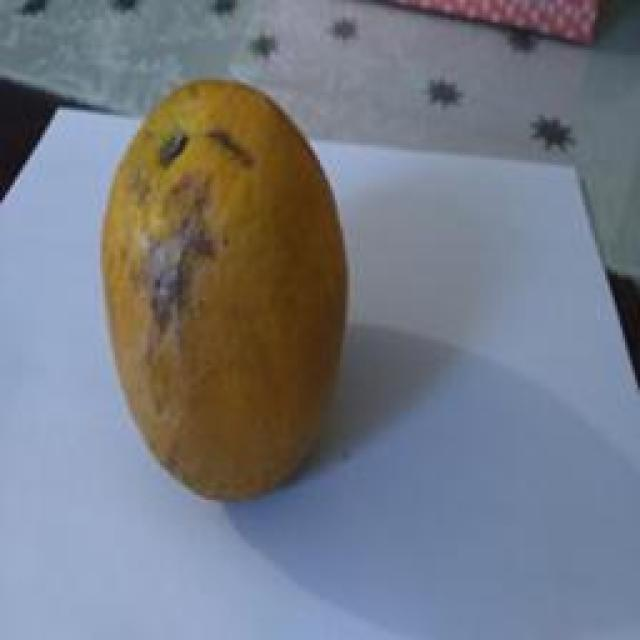Rotten_Orange: (73, 52, 377, 513)
